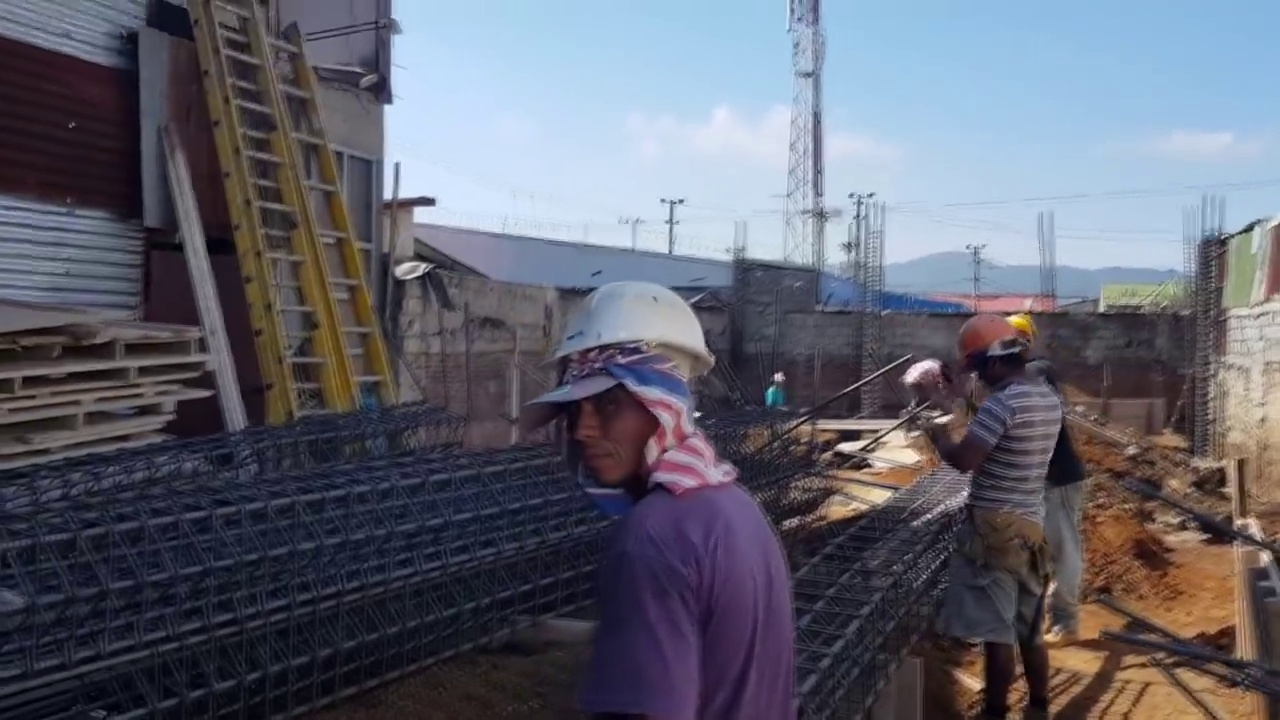helmet: (543, 274, 717, 378), (957, 314, 1017, 367), (1004, 314, 1034, 347), (773, 372, 786, 383)
helmet-on: (524, 268, 718, 508), (955, 314, 1026, 391), (1004, 314, 1038, 366), (772, 372, 786, 388)
person: (523, 269, 795, 717), (932, 314, 1063, 719), (1003, 314, 1085, 643), (903, 357, 944, 408), (764, 372, 786, 410)
